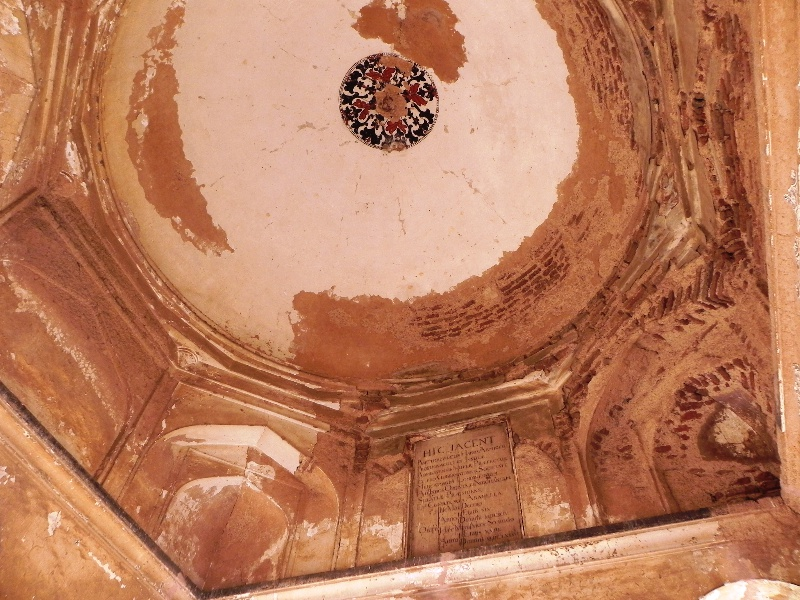Exposed Bricks: (624, 10, 754, 340), (425, 219, 590, 337)
Spalling: (129, 6, 226, 258)
